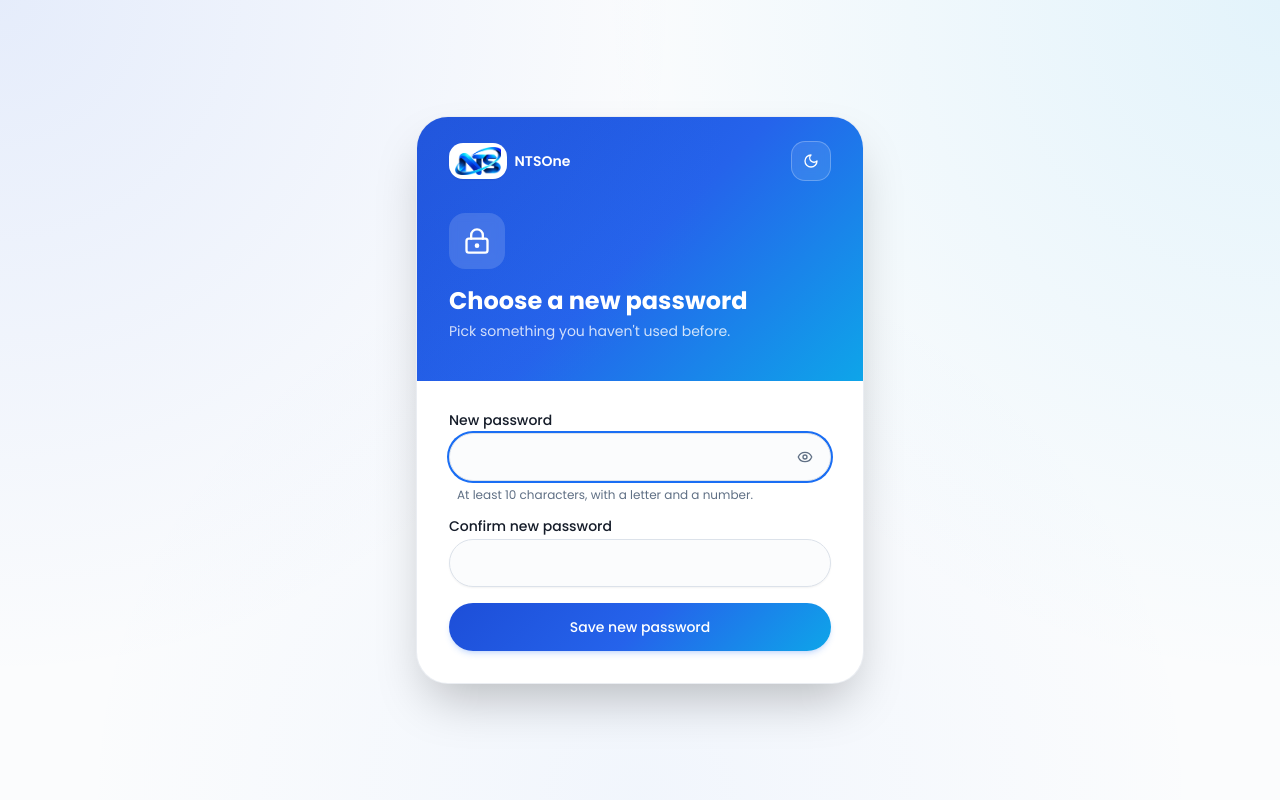
Test: the reset password form › shows the expired-link screen (without crashing) when the server says the link is no longer valid
The width and height of the screenshot is (1280, 800).
Type "Sunrise2026x" into the password field labelled "New password" at {"x": 640, "y": 457}, box [449, 433, 831, 481]
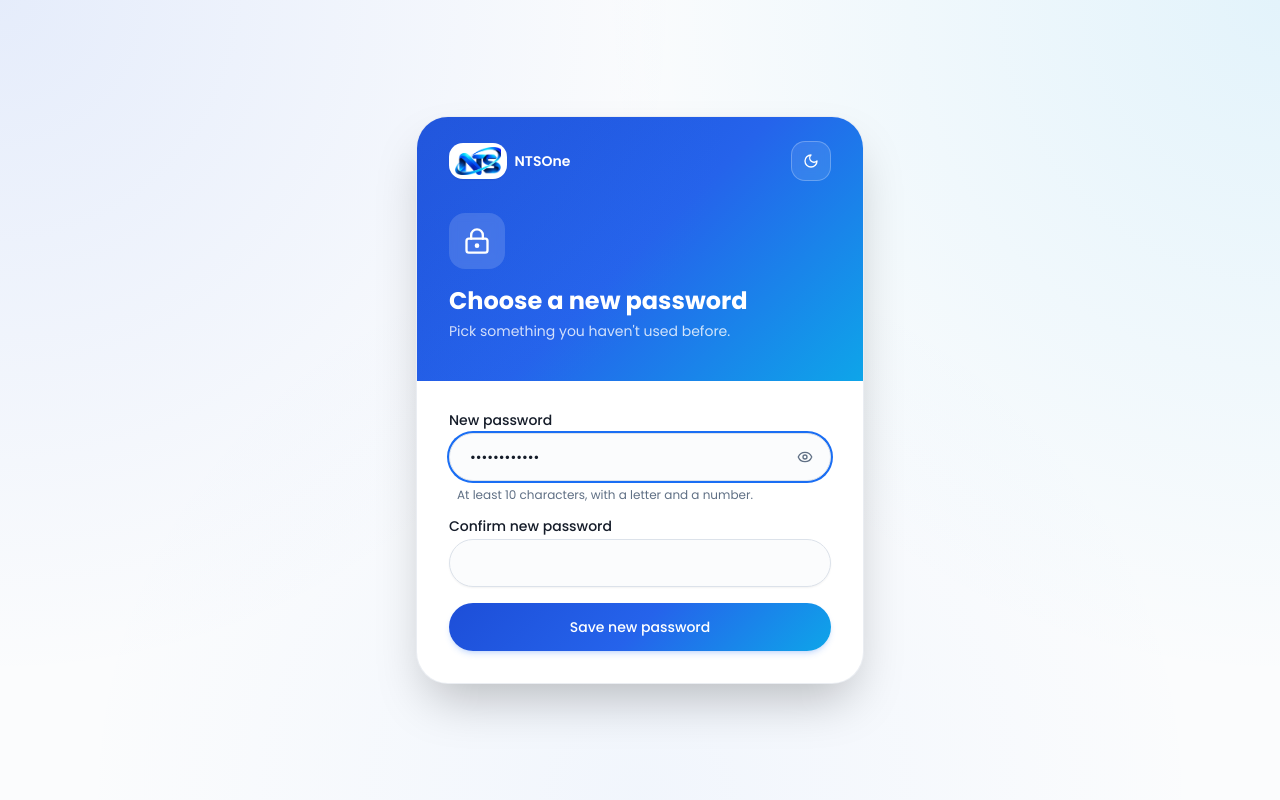
Type "Sunrise2026x" into the password field labelled "Confirm new password" at {"x": 640, "y": 563}, box [449, 539, 831, 587]
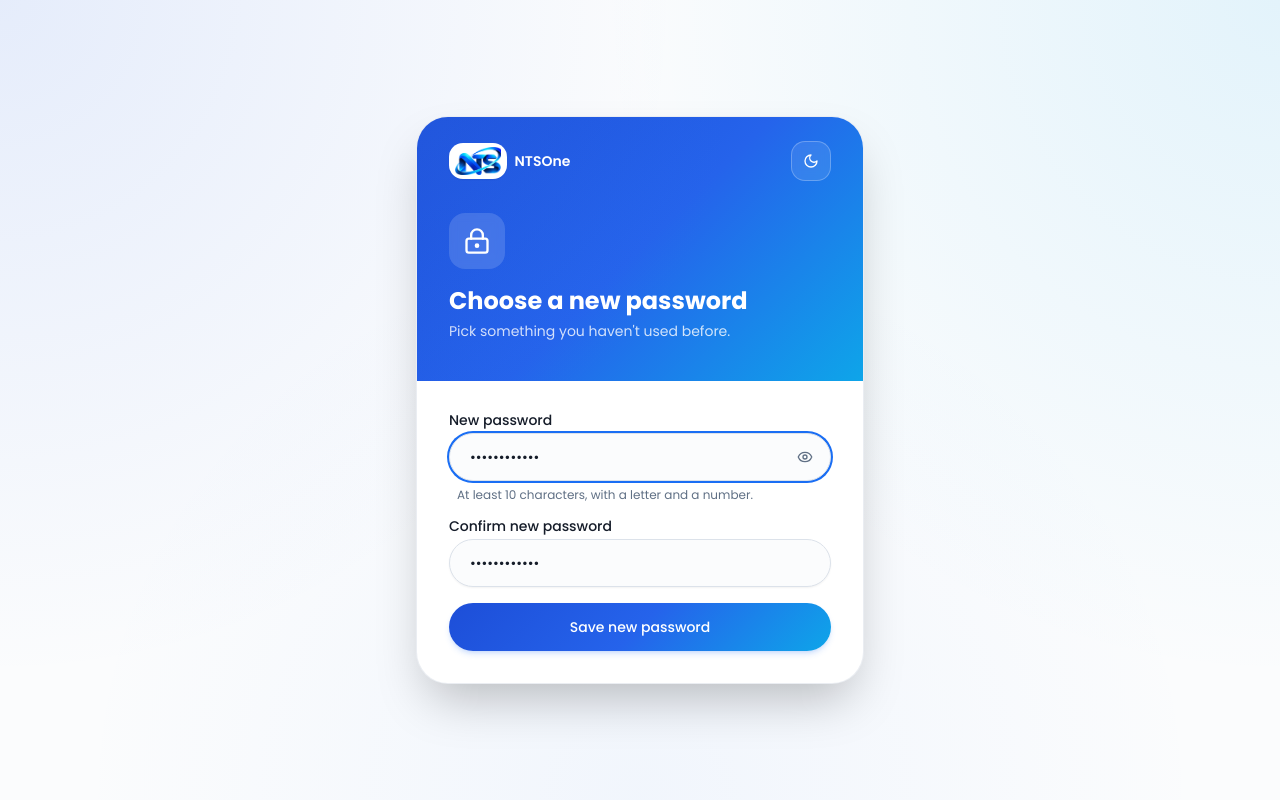
Click the button "Save new password" at {"x": 640, "y": 627}, box [449, 603, 831, 651]
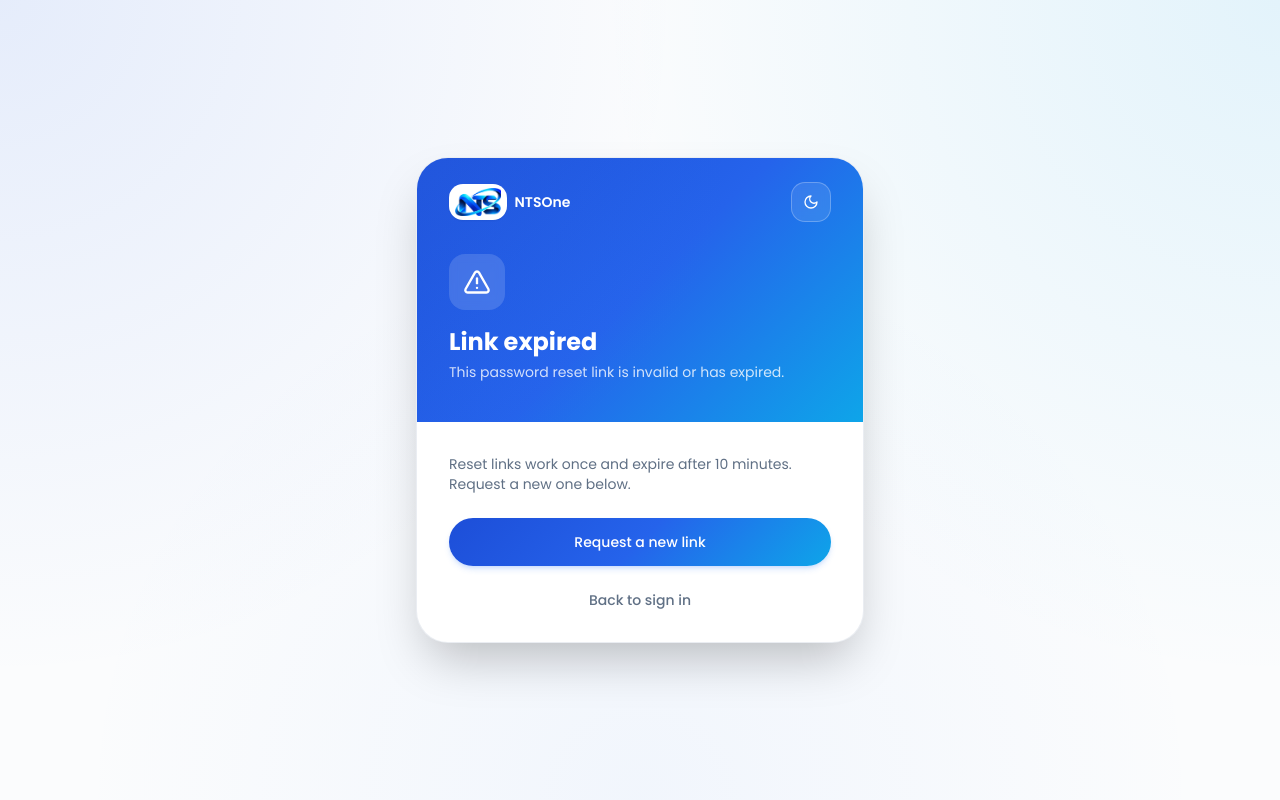
Now the heading "Link expired" is shown, box [449, 325, 597, 358]
